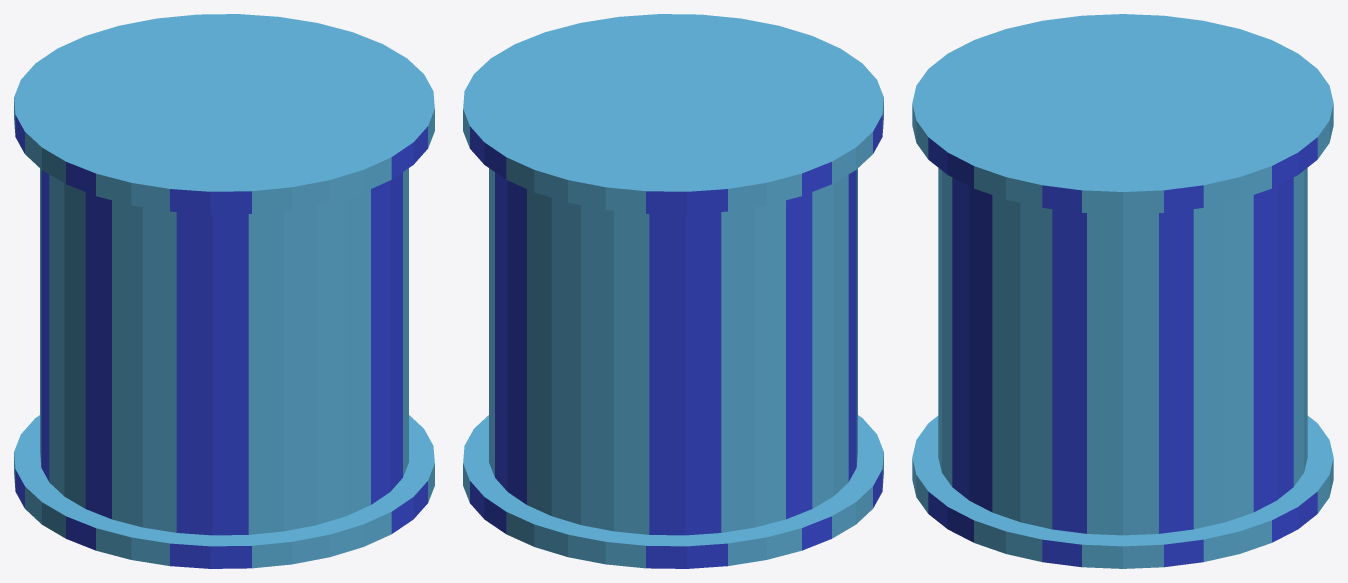
File: Etank.fbx
The picture shows the model from 3 angles, left to right: view 1: azimuth 30°, elevation 25°; view 2: azimuth 150°, elevation 25°; view 3: azimuth 270°, elevation 25°; orthographic projection.
Parts seen in each view (by area): view 1: Cylinder, Cylinder.001, Cylinder.002; view 2: Cylinder, Cylinder.001, Cylinder.002; view 3: Cylinder, Cylinder.001, Cylinder.002.
Boxes of the visible parts, bbox=[...] form: Cylinder: bbox=[40, 168, 408, 535]; Cylinder.001: bbox=[14, 14, 434, 214]; Cylinder.002: bbox=[14, 415, 434, 568]; Cylinder: bbox=[489, 168, 857, 535]; Cylinder.001: bbox=[463, 14, 883, 214]; Cylinder.002: bbox=[463, 415, 883, 568]; Cylinder: bbox=[938, 168, 1307, 535]; Cylinder.001: bbox=[912, 14, 1333, 214]; Cylinder.002: bbox=[912, 416, 1333, 568].
Size of the model in its own units: 228 by 225 by 228.
